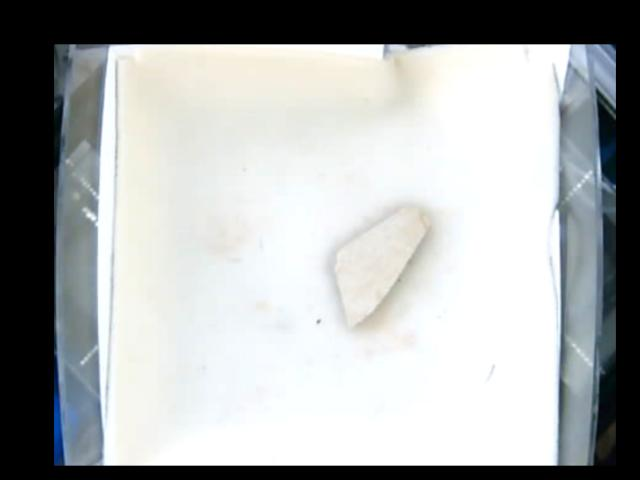China: (331, 204, 428, 322)
